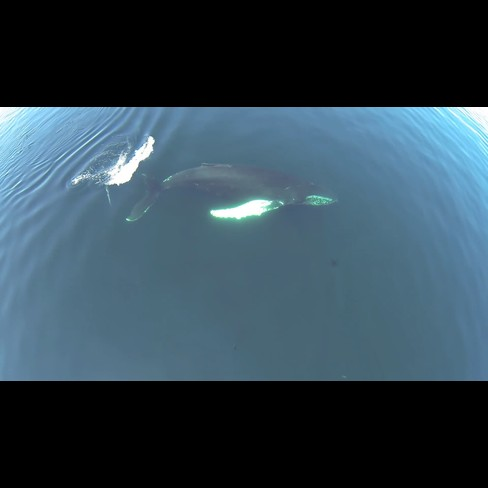hump: (103, 149, 347, 231)
